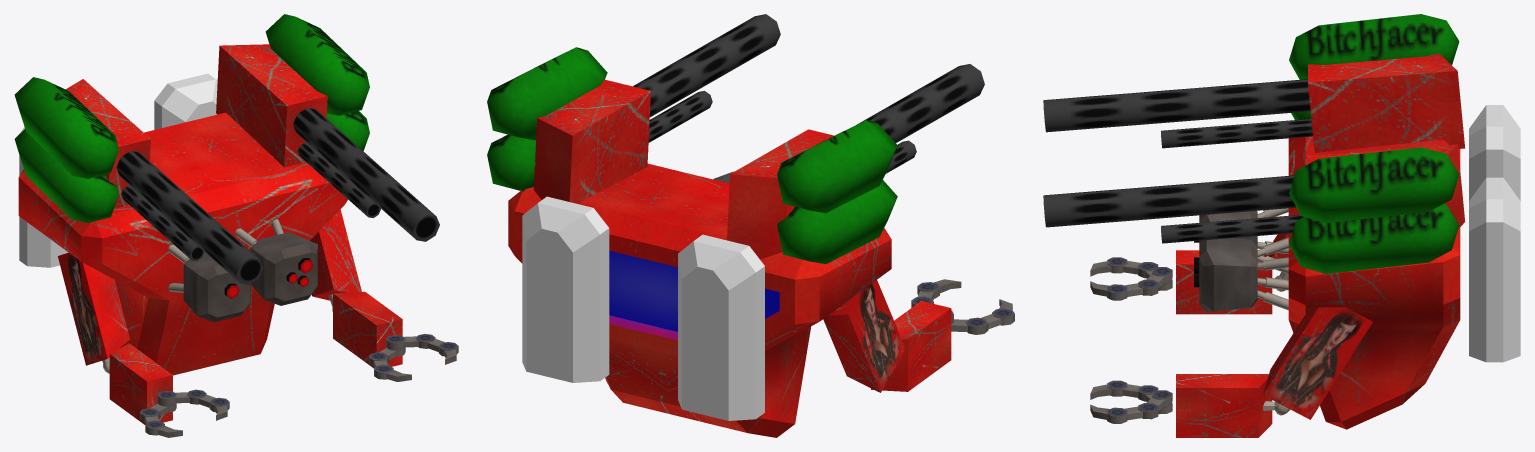
Rendered from Grenadir_Bot.FBX.
3 views of the same model, side by side, from view 1: azimuth 30°, elevation 25°; view 2: azimuth 150°, elevation 25°; view 3: azimuth 270°, elevation 25° (orthographic). The views are drawn at different scales.
Parts seen in each view (by area): view 1: Body, Jetpack001, Jetpack; view 2: Body, Jetpack001, Jetpack; view 3: Body, Jetpack001, Jetpack.
Part boxes in pixels (x1,y1,x2,y2): Body: (14,14,458,437); Jetpack001: (154,73,217,129); Jetpack: (19,127,68,267); Body: (487,14,1014,437); Jetpack001: (522,196,609,382); Jetpack: (678,234,764,420); Body: (1043,14,1465,437); Jetpack001: (1469,177,1520,362); Jetpack: (1469,105,1520,200).
Bounding box in the file's own units: 232 × 208 × 278.
